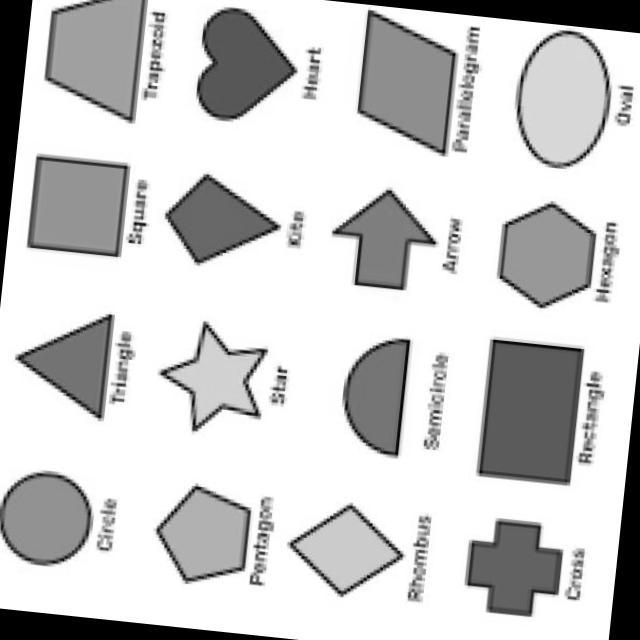circle: (0, 455, 113, 575)
cross: (446, 493, 584, 627)
square: (15, 143, 154, 278)
triangle: (3, 298, 146, 427)
